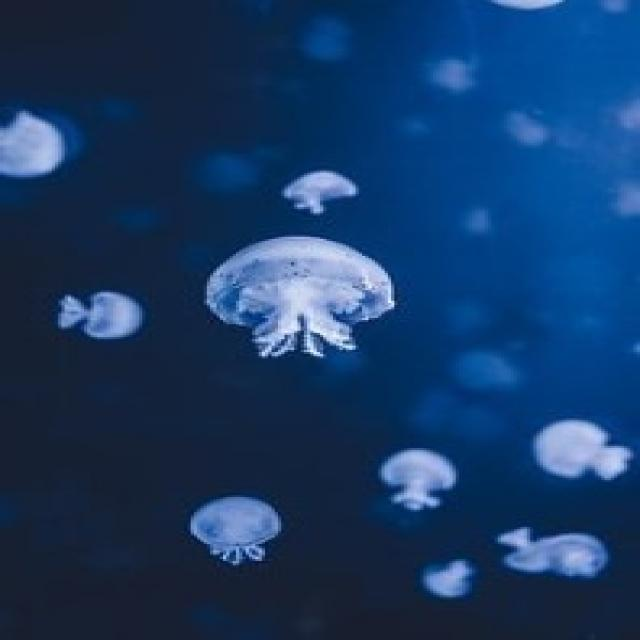Jellyfish: (196, 229, 397, 348), (181, 497, 292, 580), (521, 418, 637, 496), (493, 528, 617, 586), (371, 450, 459, 526), (50, 283, 146, 350), (280, 164, 365, 222)
